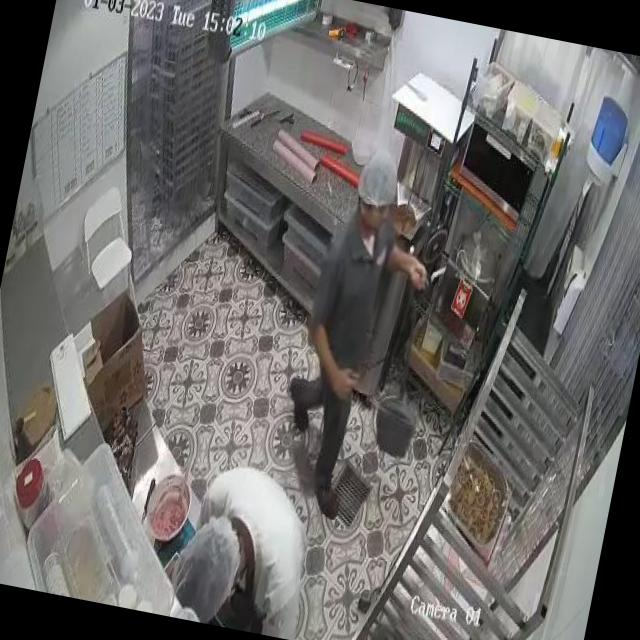hairnet: (173, 510, 246, 616), (354, 147, 404, 210)
